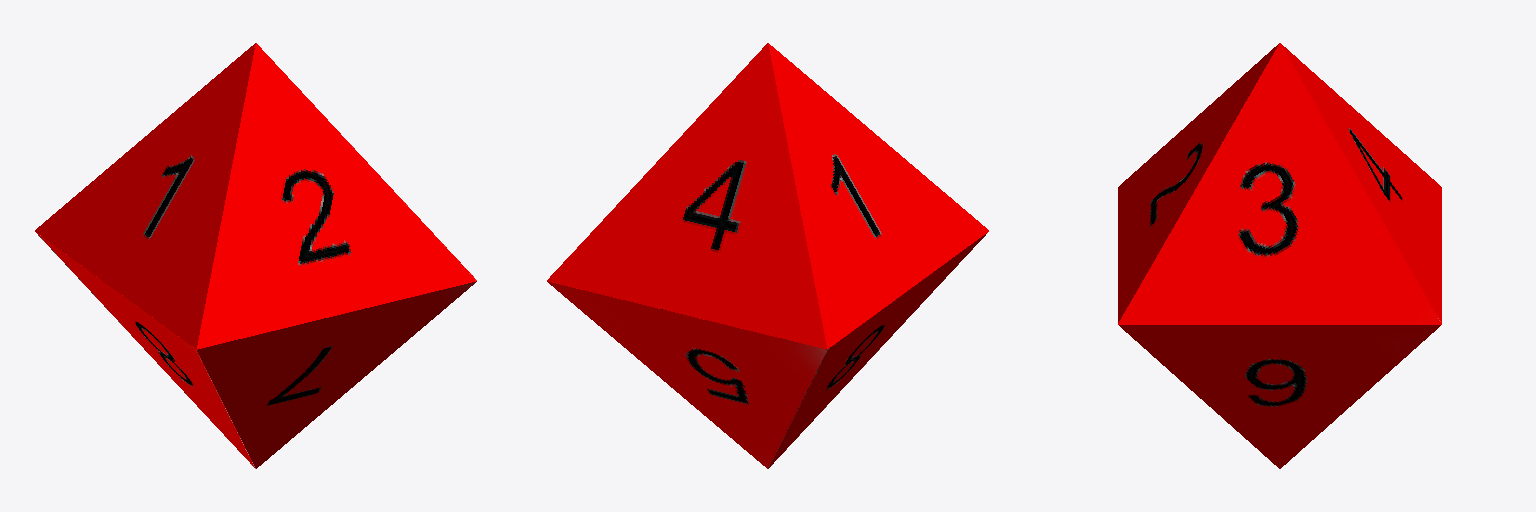
3 views of the same model, side by side, from view 1: azimuth 30°, elevation 25°; view 2: azimuth 150°, elevation 25°; view 3: azimuth 270°, elevation 25° (orthographic).
Visible parts, largest first — view 1: Cube.001_Cube.002; view 2: Cube.001_Cube.002; view 3: Cube.001_Cube.002.
Part boxes in pixels (x1,y1,x2,y2): Cube.001_Cube.002: (35,43,476,468); Cube.001_Cube.002: (547,43,988,468); Cube.001_Cube.002: (1118,43,1441,468).
Bounding box in the file's own units: 2 × 2.9 × 2.
Materials: 1 (1 with a texture image).